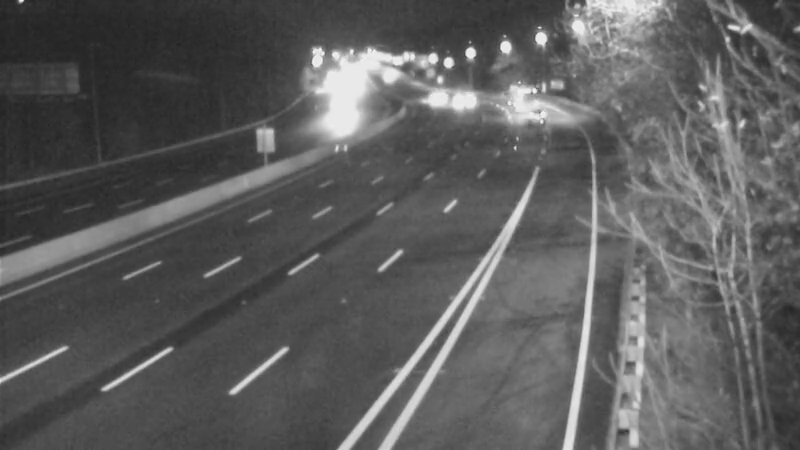vehicle: (493, 77, 543, 127), (410, 68, 460, 118), (434, 75, 484, 125), (512, 88, 562, 138)
